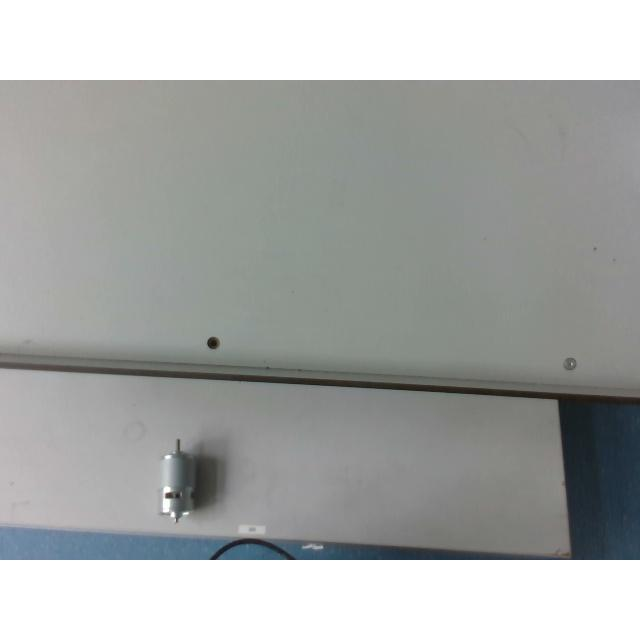Motor2: (155, 438, 197, 522)
